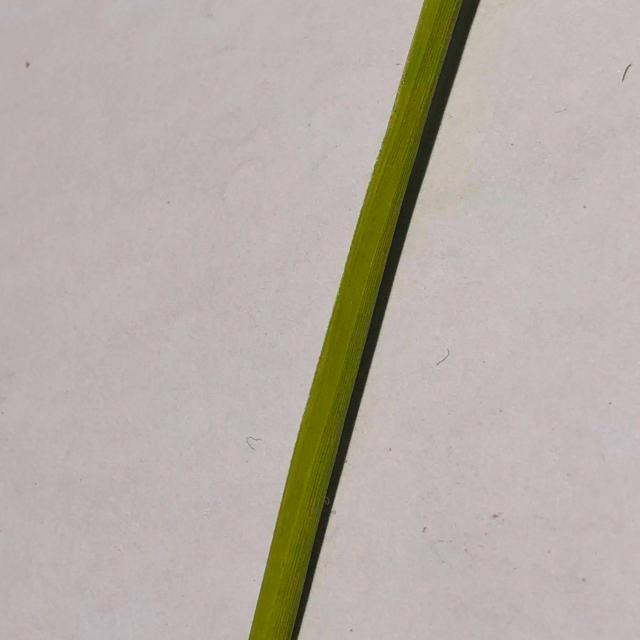Rice_Healthy: (249, 0, 461, 640)
